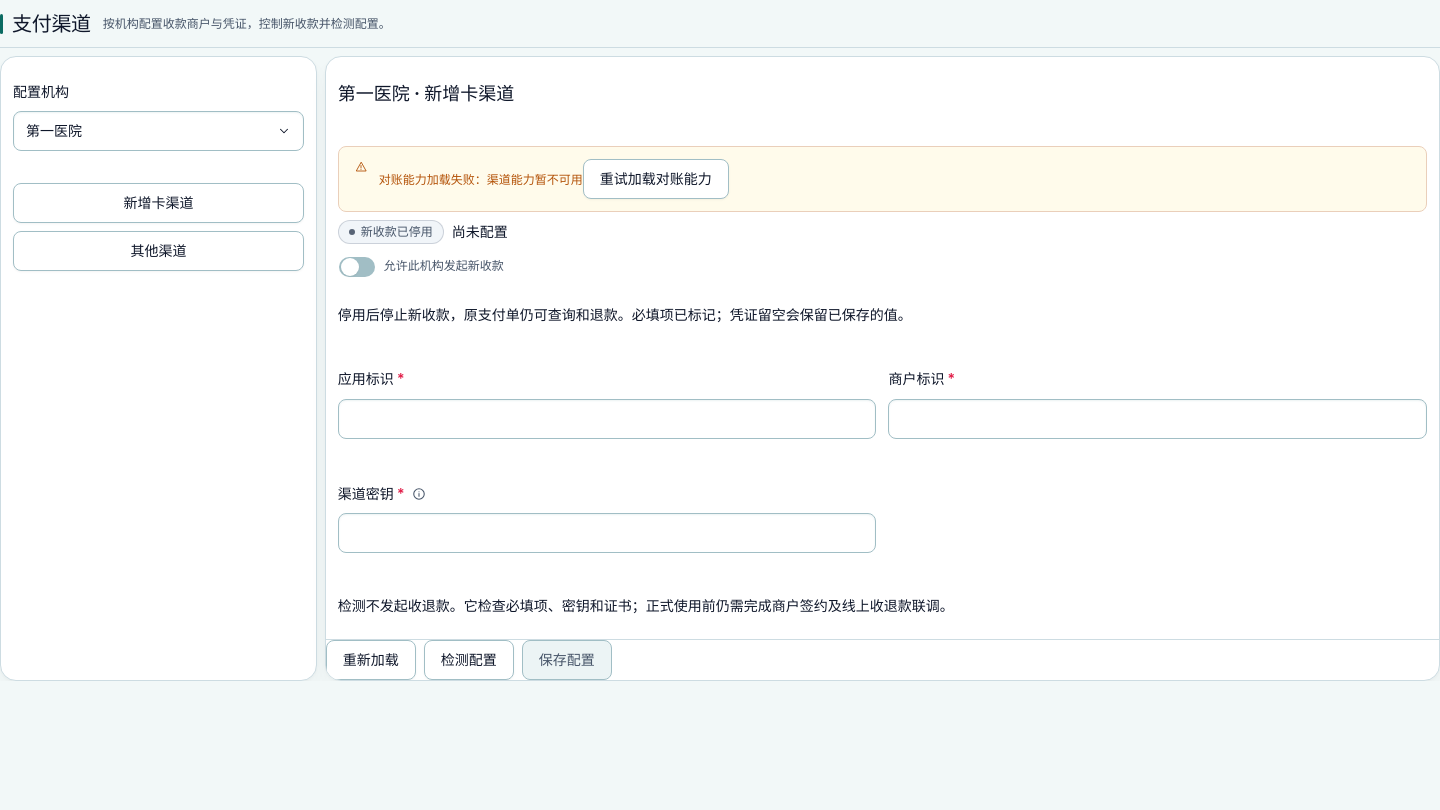
Test: PaymentChannelManagement › shows a retriable error when reconciliation capabilities fail to load
Expected: the text "对账能力加载失败：渠道能力暂不可用 重试加载对账能力" is shown, [379,159,729,199]
Click the button "重试加载对账能力".
click(656, 179)  # box [583,159,729,199]
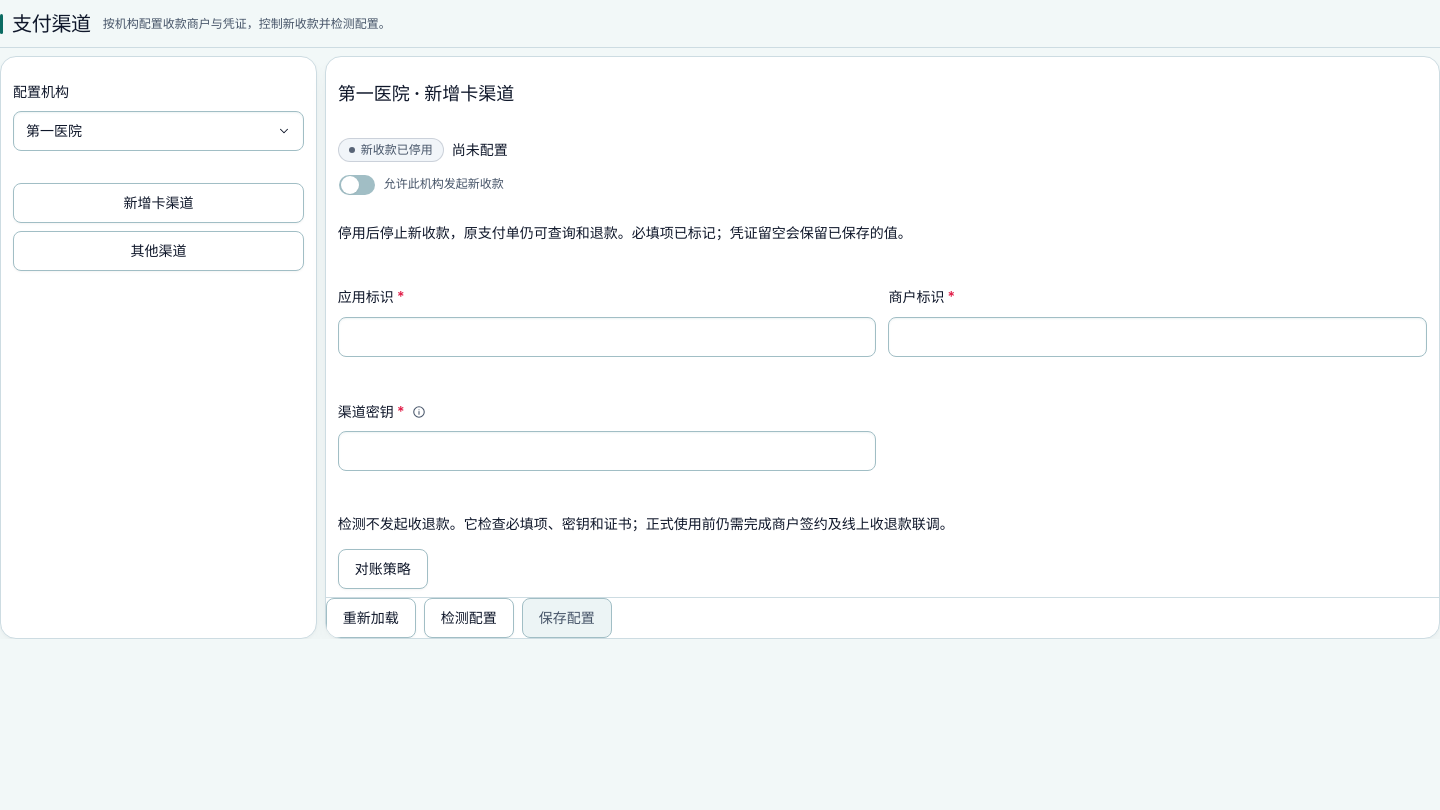
Expected: the button "对账策略" is shown, [338,549,428,589]
